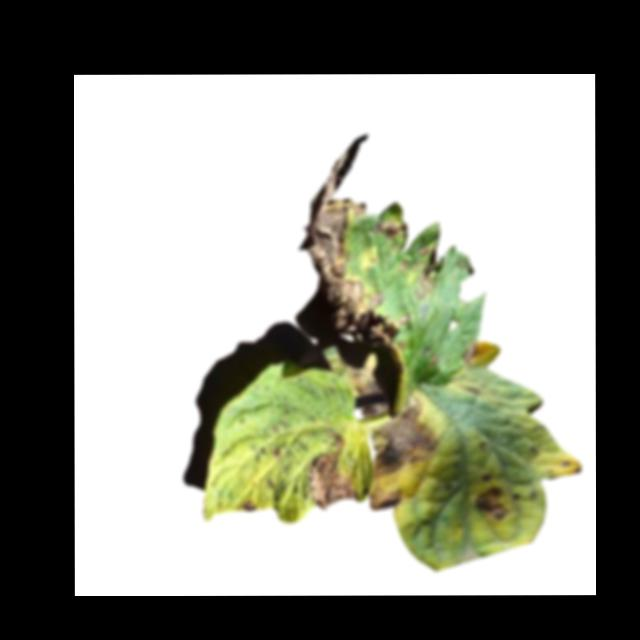Early_blight: (307, 132, 405, 344), (372, 404, 438, 469), (307, 429, 358, 509), (406, 243, 444, 298), (352, 370, 389, 418), (473, 487, 508, 522), (367, 486, 406, 512), (462, 339, 483, 365), (237, 498, 260, 512), (481, 469, 494, 483)
